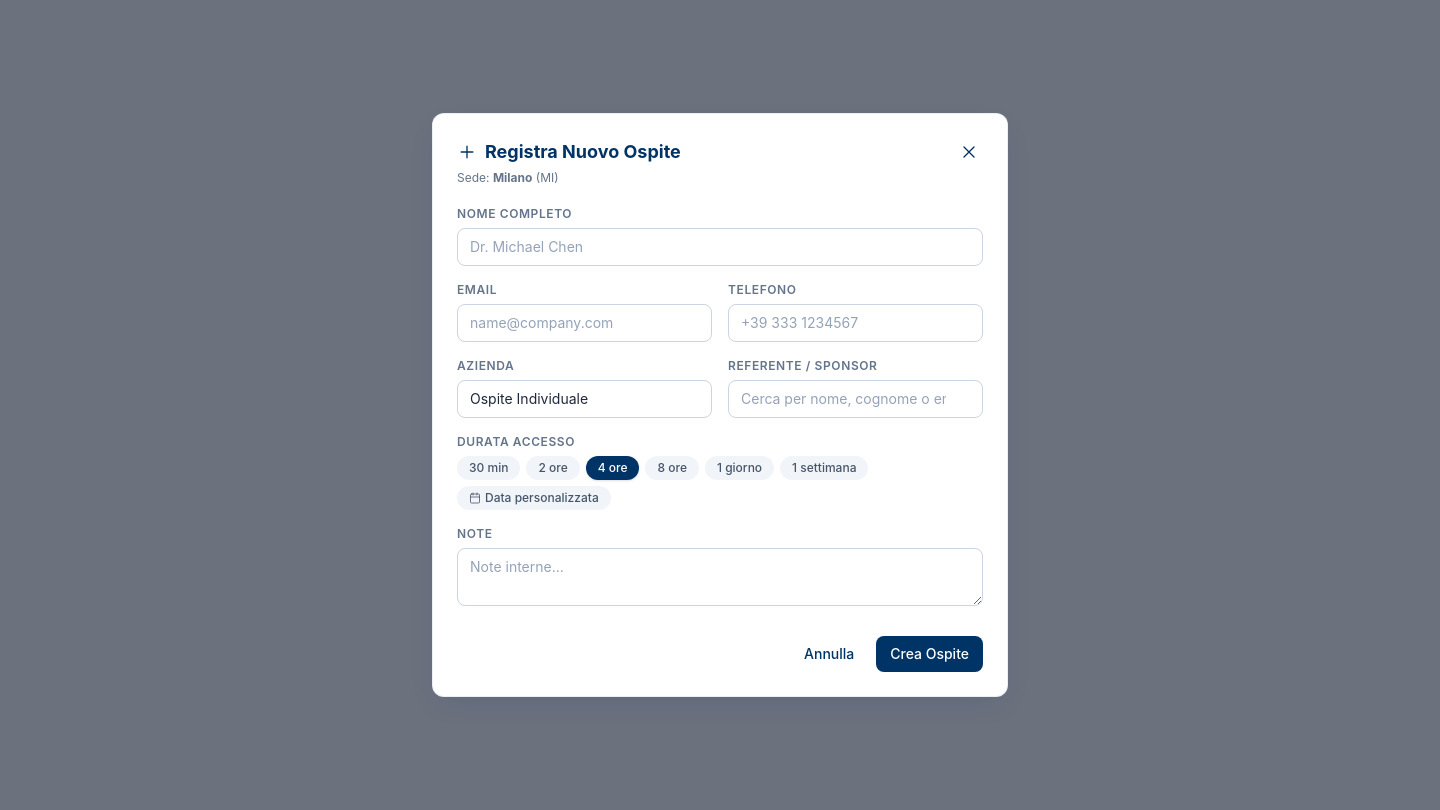
Test: RegisterGuestModal › submits the form and shows one-time password view
Type "Test Guest" into the field labelled "Nome completo".
click(720, 247); type("Test Guest")  # box [457, 228, 983, 266]
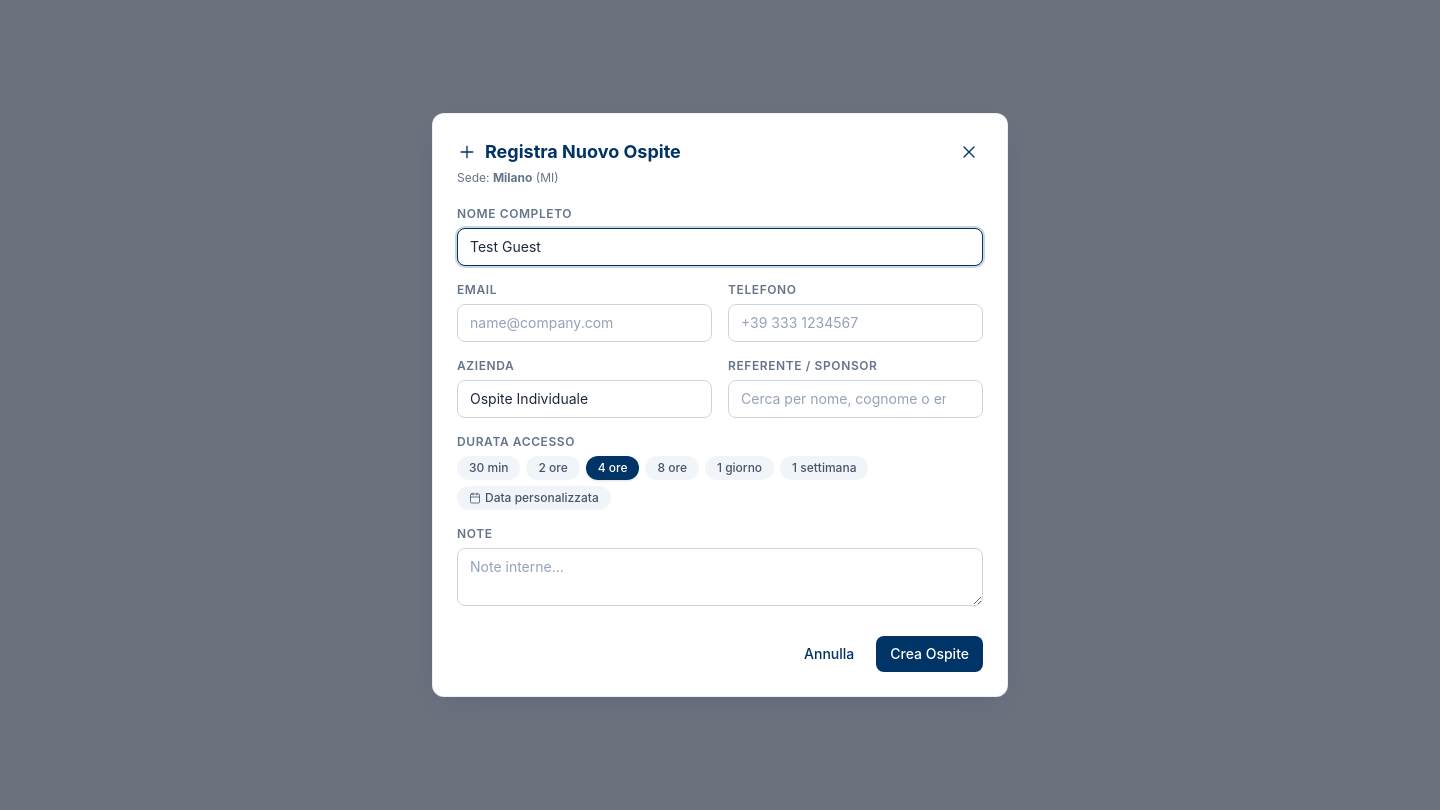
Type "test@example.com" into the field labelled "Email".
click(584, 323); type("test@example.com")  # box [457, 304, 712, 342]
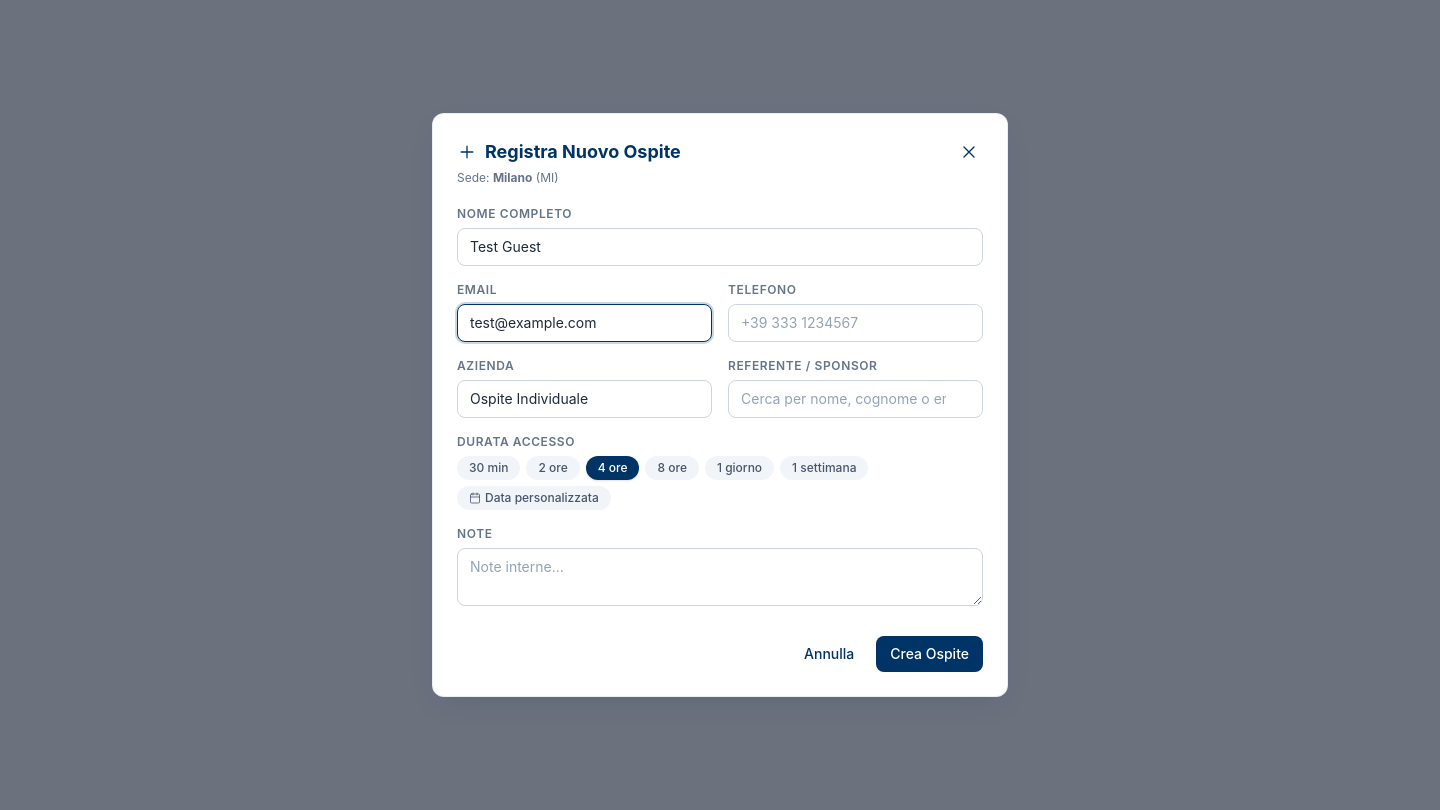
Type "+39 333 1234" into the field labelled "Telefono".
click(856, 323); type("+39 333 1234")  # box [728, 304, 983, 342]
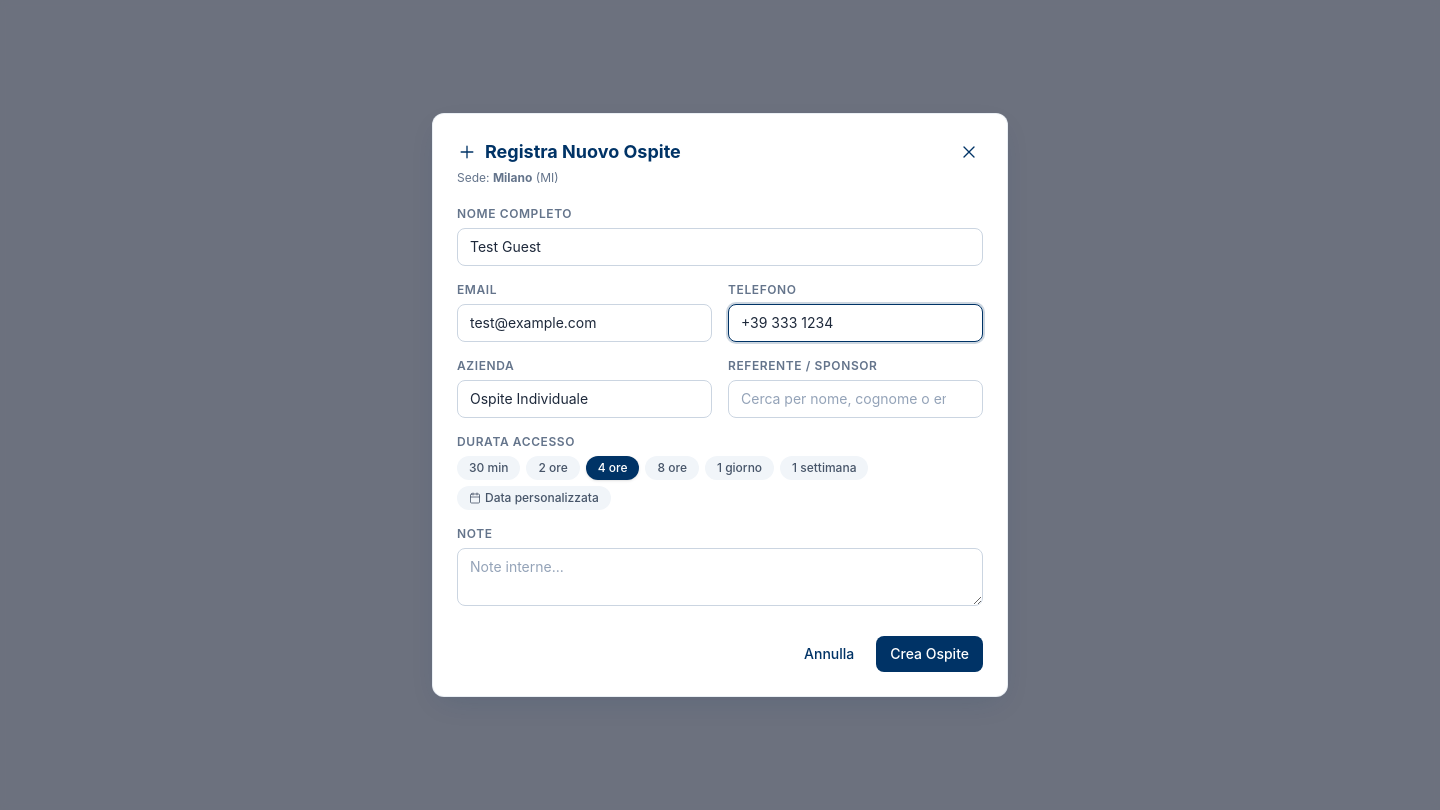
Type "Dr. Rossi" into the dropdown labelled "Referente / Sponsor".
click(856, 399); type("Dr. Rossi")  # box [728, 380, 983, 418]
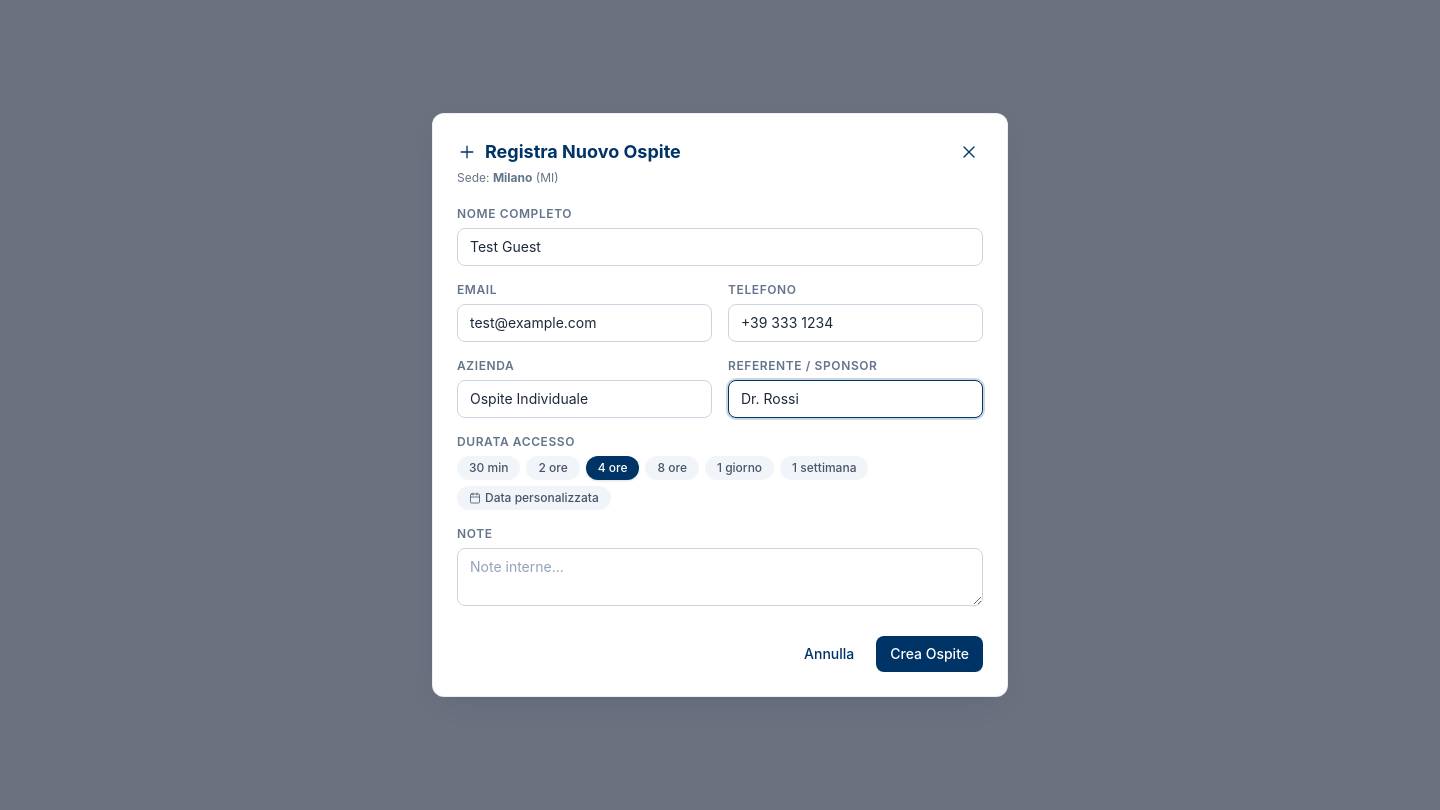
Click the button "Crea Ospite".
click(930, 654)  # box [876, 636, 983, 672]
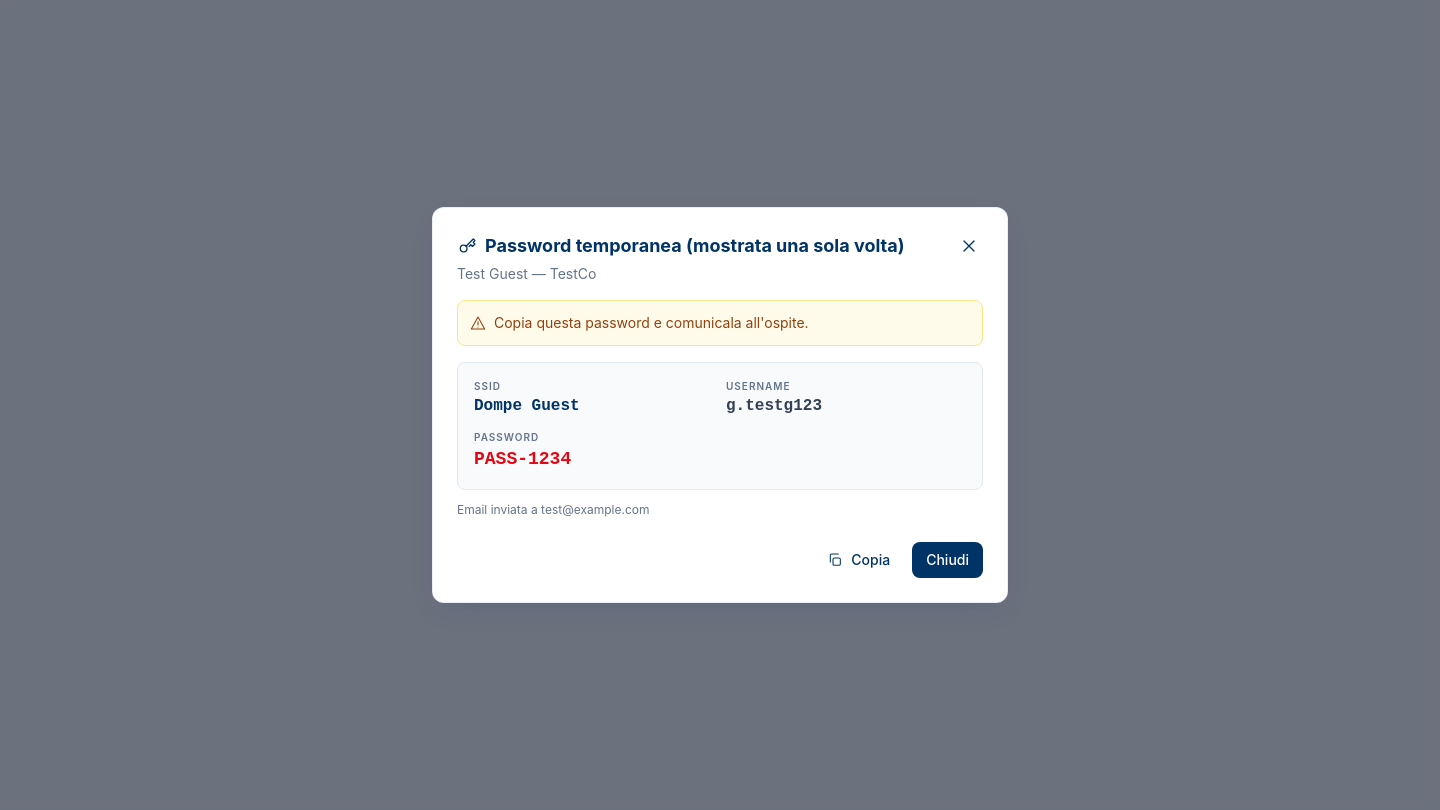
Expected: the heading "Password temporanea (mostrata una sola volta)" is shown, [457, 232, 904, 260]
